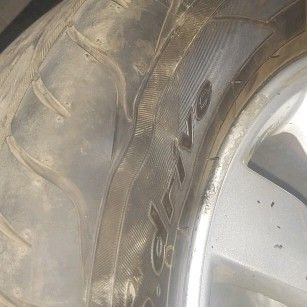CBU: (106, 83, 173, 202)
